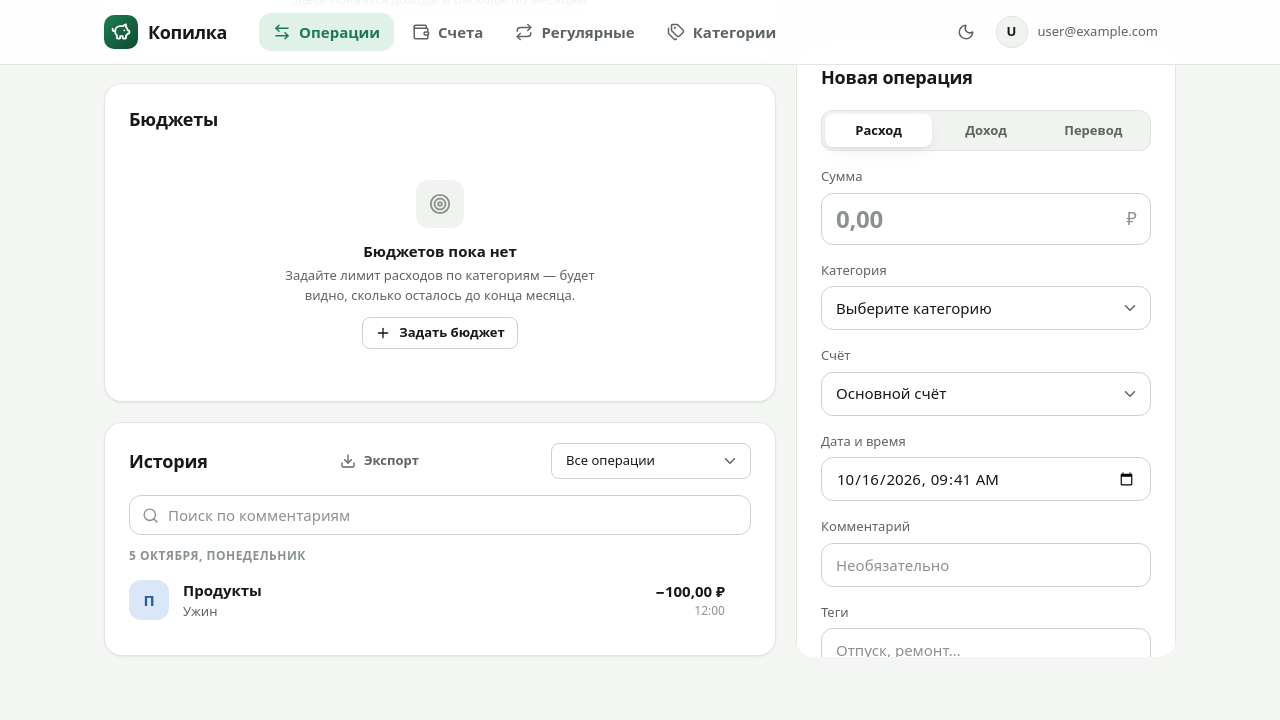
Scenario: TransactionList › deletes a transaction from its dialog only after confirmation
(page scrolled)
Click the text "Ужин" at point(200, 610), box [183, 602, 218, 620]
(page scrolled)
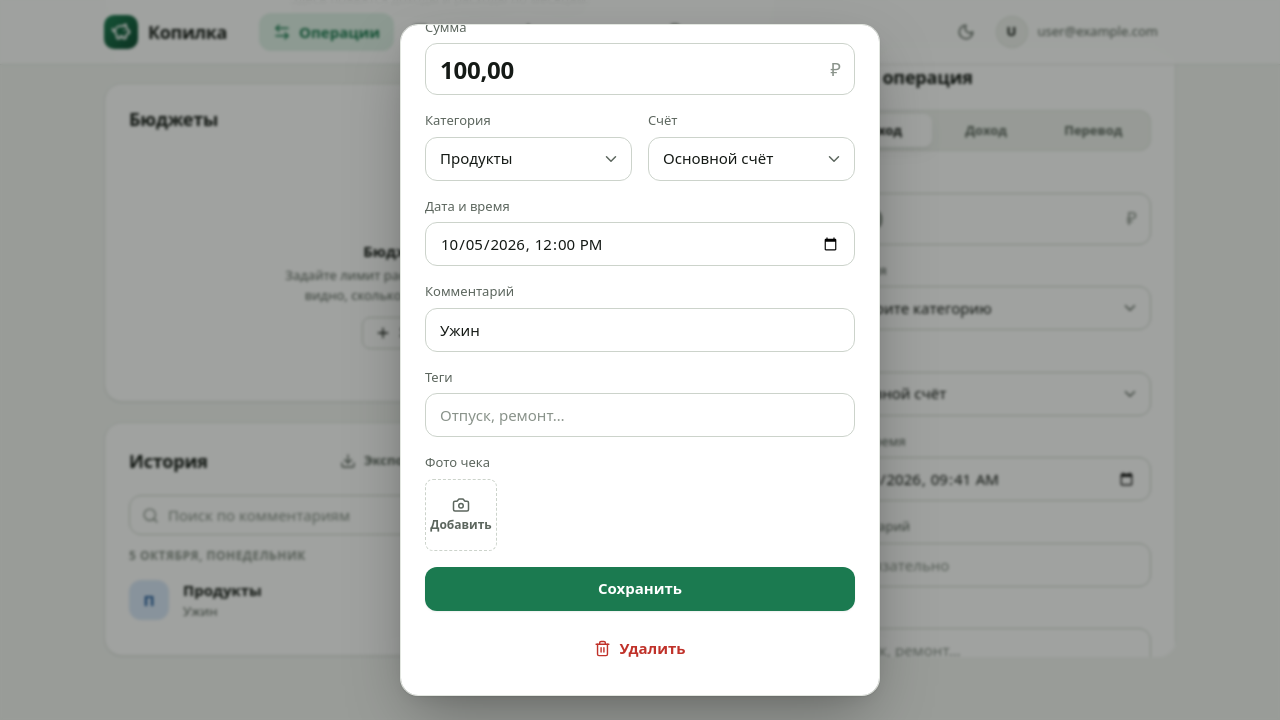
Click the button with aria-label "Удалить операцию «Продукты»" at point(640, 648), box [425, 626, 855, 670]
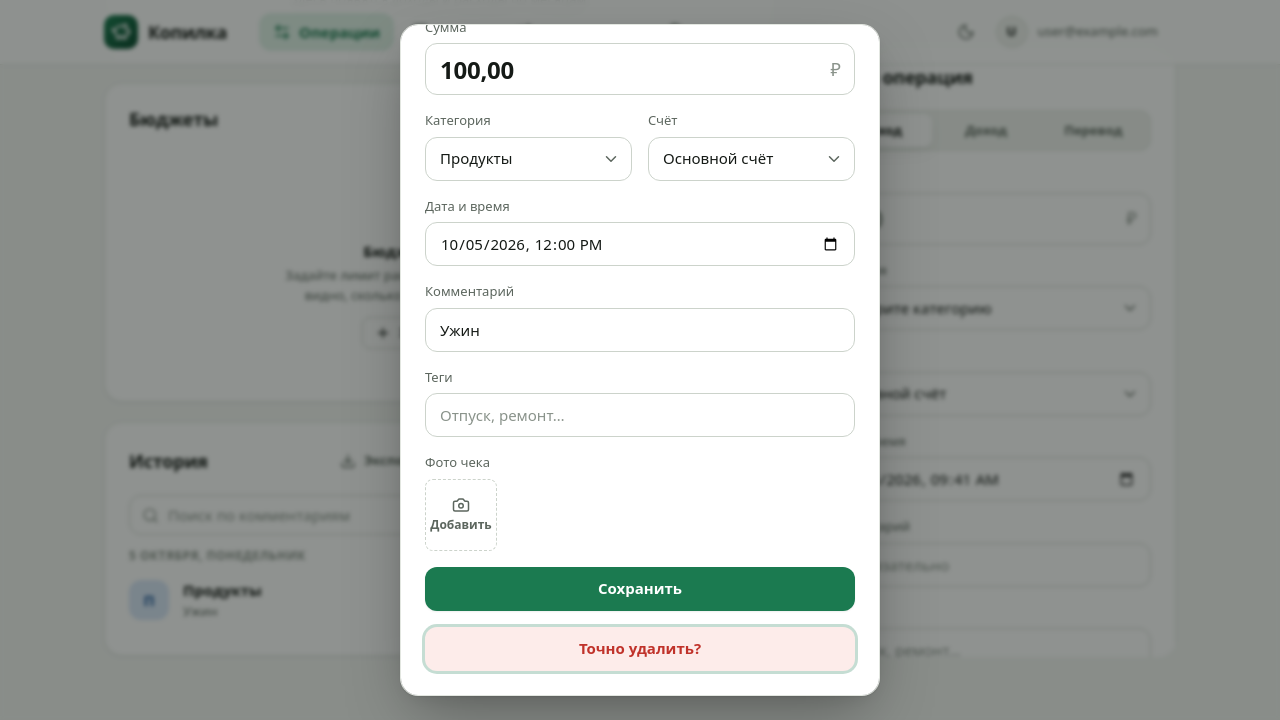
Click the button with aria-label "Подтвердите: Удалить операцию «Продукты»" at point(640, 648), box [425, 626, 855, 670]
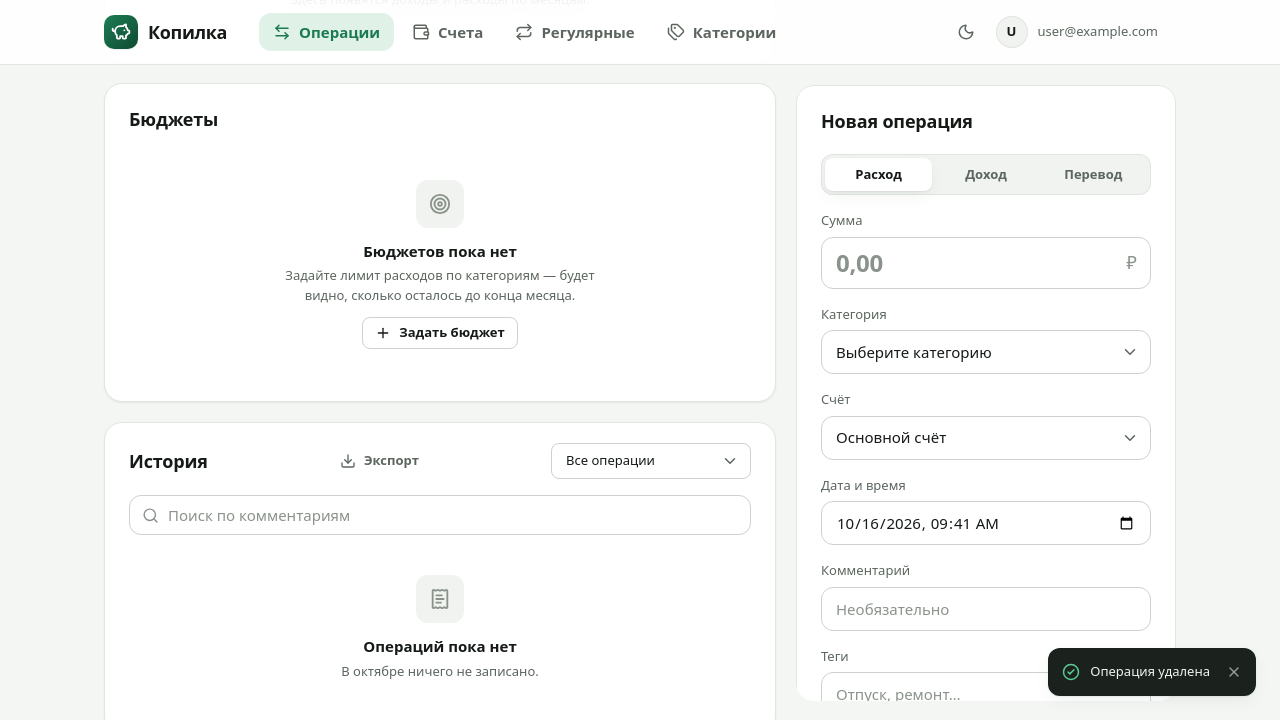
expect the text "Операций пока нет" is shown: met, box [363, 635, 517, 658]
expect the dialog is gone: met
